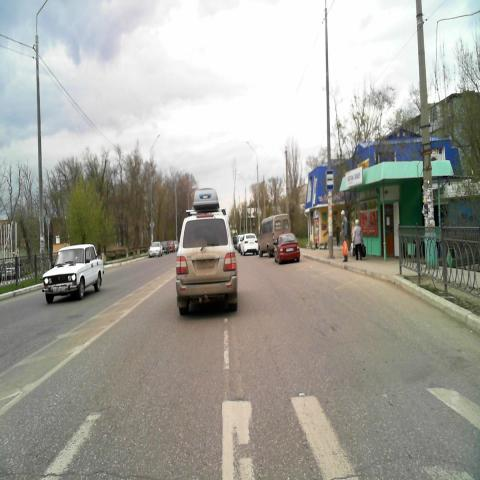5_16: (326, 170, 333, 190)
